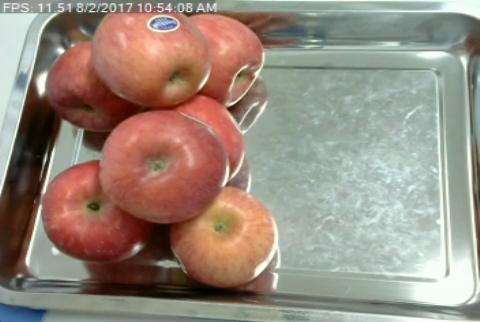apple: (100, 110, 230, 222), (41, 160, 159, 261), (91, 12, 209, 107), (170, 186, 277, 286), (47, 40, 116, 128), (197, 14, 263, 101)
